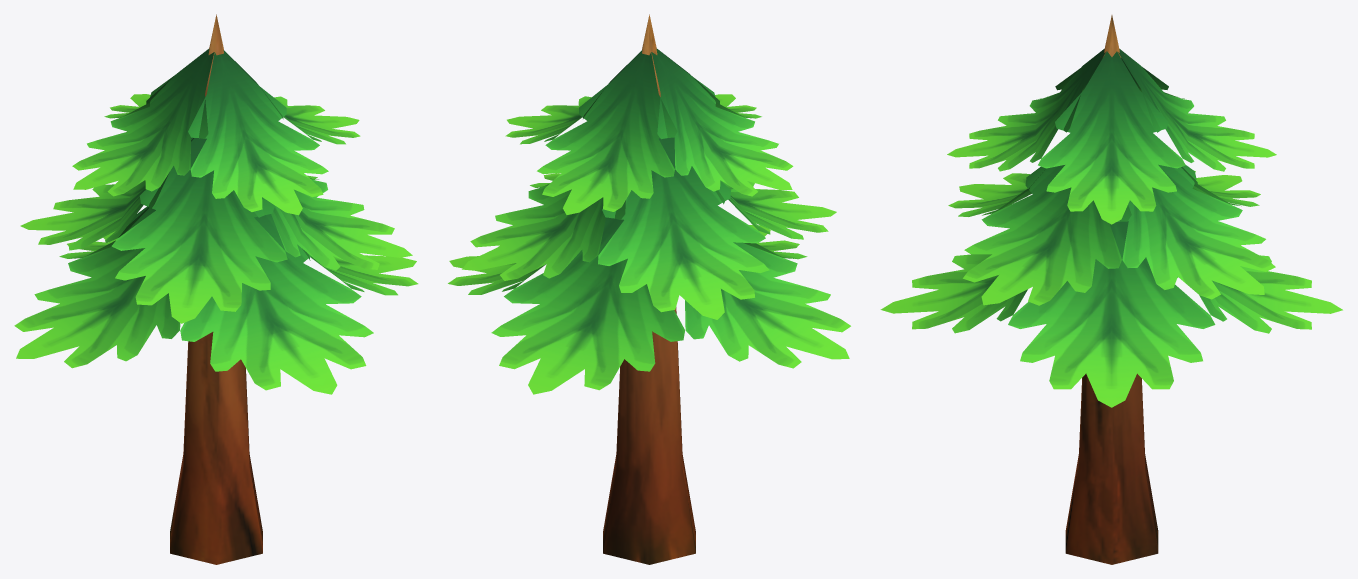
File: tree.fbx
The picture shows the model from 3 angles, left to right: view 1: azimuth 30°, elevation 25°; view 2: azimuth 150°, elevation 25°; view 3: azimuth 270°, elevation 25°; orthographic projection.
Visible parts, largest first — view 1: pCylinder8; view 2: pCylinder8; view 3: pCylinder8.
Boxes of the visible parts, box(x1,y1,x2,y2) form: pCylinder8: box(14, 14, 418, 564); pCylinder8: box(448, 14, 850, 564); pCylinder8: box(880, 15, 1342, 564).
Size of the model in its own units: 1281 by 1613 by 1281.
